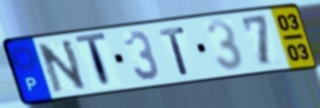3: (122, 29, 161, 84), (207, 17, 244, 74)
7: (239, 13, 273, 69)
N: (35, 37, 89, 95)
T: (73, 31, 114, 91), (157, 25, 191, 77)
